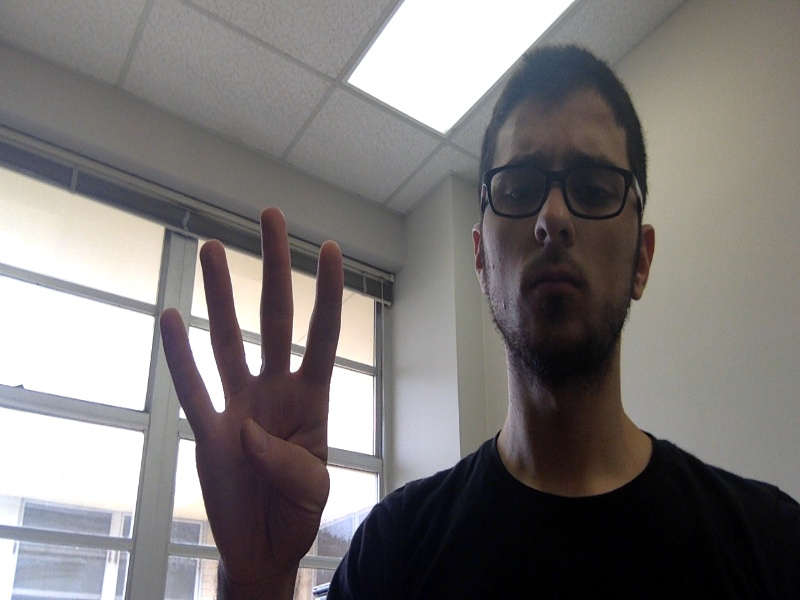4-hand: (162, 209, 342, 571)
